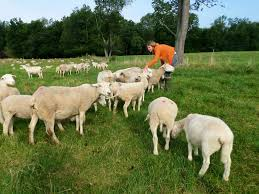sheep: (35, 83, 110, 139), (172, 112, 233, 177), (3, 87, 50, 141), (145, 98, 174, 154), (117, 81, 151, 111), (113, 63, 151, 82), (150, 59, 175, 87), (96, 67, 116, 101), (1, 72, 17, 98), (18, 65, 47, 79), (53, 63, 77, 78), (76, 59, 97, 74)
